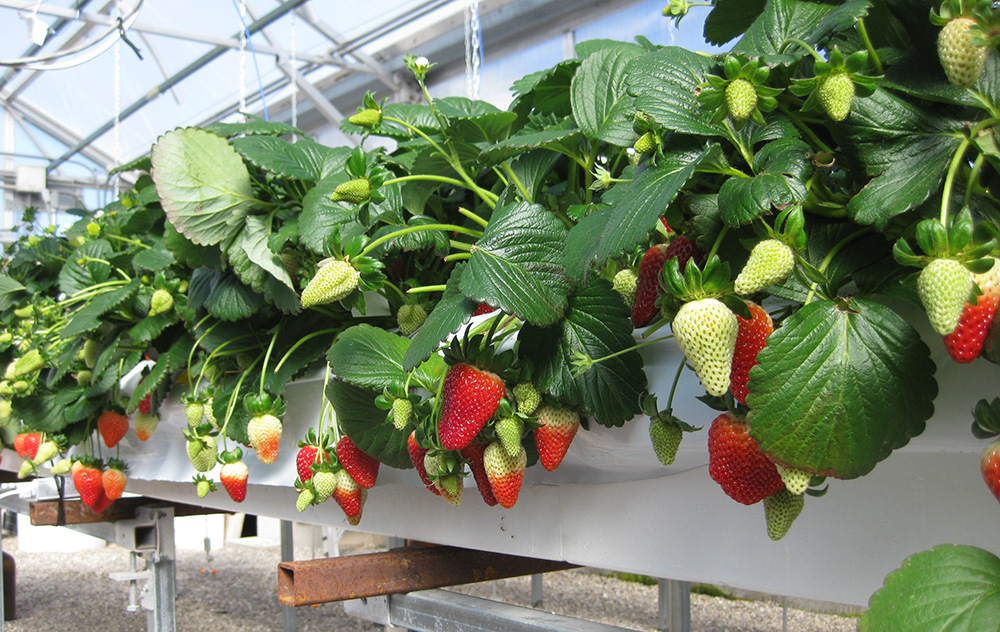green_strawberry: (671, 281, 734, 397), (910, 241, 974, 340), (736, 237, 805, 295), (807, 58, 864, 126), (710, 66, 774, 126), (934, 17, 987, 86), (301, 259, 360, 309), (646, 405, 692, 468), (488, 442, 529, 506), (425, 451, 468, 509), (245, 416, 281, 463), (330, 174, 374, 204), (185, 431, 217, 472), (627, 123, 661, 160), (392, 300, 427, 333), (494, 418, 521, 456), (510, 381, 542, 413), (144, 286, 175, 318), (613, 266, 640, 299), (134, 410, 160, 443), (348, 106, 386, 127), (15, 351, 46, 376), (389, 399, 414, 430), (184, 400, 207, 429), (34, 438, 60, 463), (314, 472, 337, 497), (293, 487, 315, 512), (82, 338, 100, 366), (13, 460, 38, 480), (193, 477, 214, 498), (15, 304, 36, 322), (48, 460, 74, 474), (85, 219, 104, 237)
red_strawberry: (434, 363, 501, 449), (634, 240, 674, 329), (532, 401, 582, 470), (707, 414, 738, 490), (338, 432, 377, 490), (96, 410, 129, 448), (73, 467, 104, 506), (335, 473, 360, 520), (221, 464, 247, 503), (410, 434, 429, 484), (298, 444, 321, 482), (100, 470, 126, 500), (16, 433, 40, 460)
